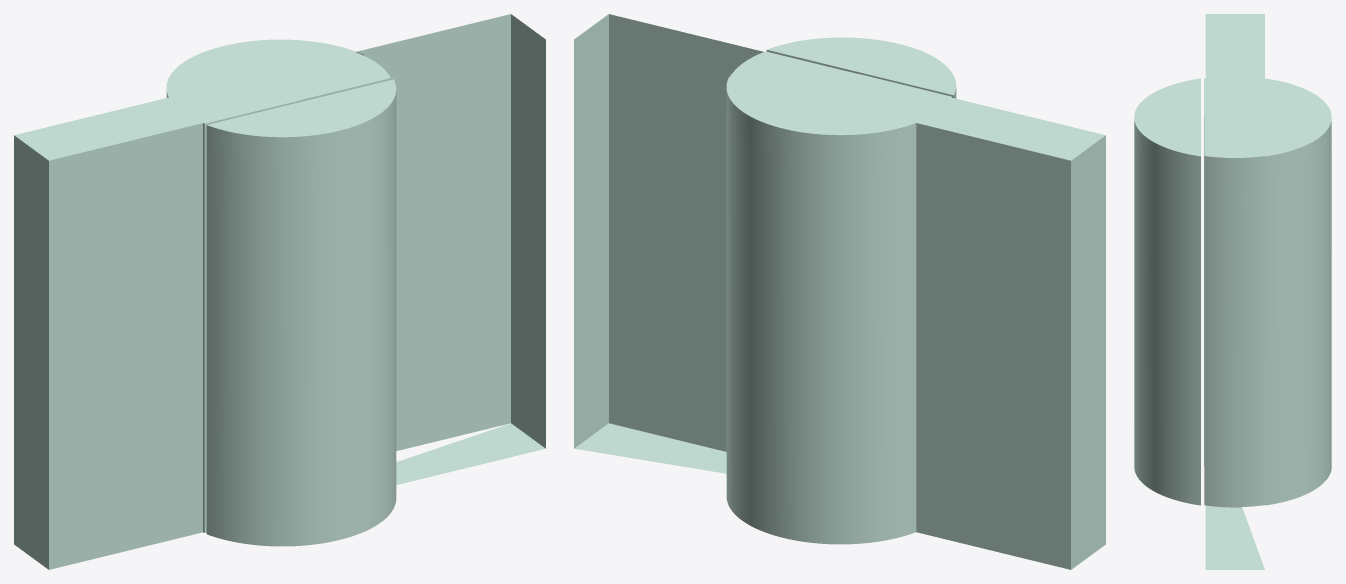
The picture shows the model from 3 angles, left to right: view 1: azimuth 30°, elevation 25°; view 2: azimuth 150°, elevation 25°; view 3: azimuth 270°, elevation 25°; orthographic projection. The views are drawn at different scales.
Parts seen in each view (by area): view 1: Renderer Node; view 2: Renderer Node; view 3: Renderer Node.
Boxes of the visible parts, x1,y1,x2,y2 form: Renderer Node: (14, 14, 545, 569); Renderer Node: (574, 14, 1105, 569); Renderer Node: (1134, 14, 1331, 569).
Bounding box in the file's own units: 0.9531 × 0.75 × 0.3846.
